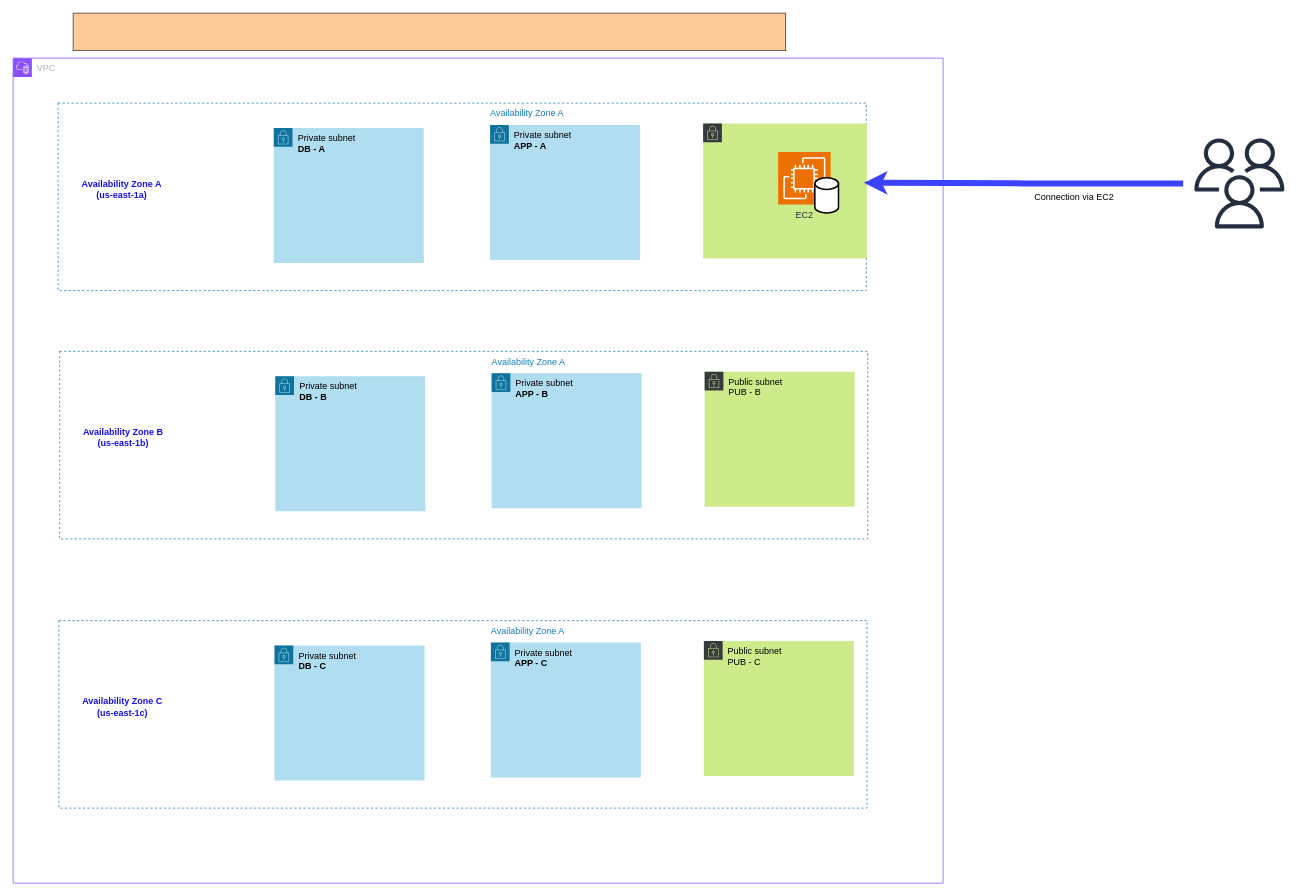
Image size: 1309x896. Some labels were removed from this diagram. The box of each missing label's shape, as (x1, y1, x2, y2) in pixels:
ARCHITECTURE EVOLUTION STAGE 1: (72, 12, 786, 51)
DB: (814, 177, 839, 213)
Public subnet PUB - A: (702, 123, 867, 258)
Users: (1182, 126, 1296, 240)
